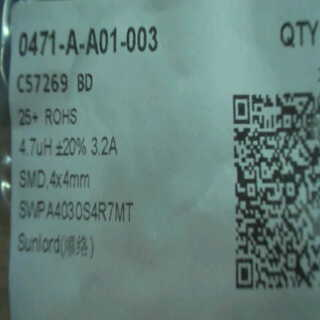4.7uH: (15, 133, 54, 159)
